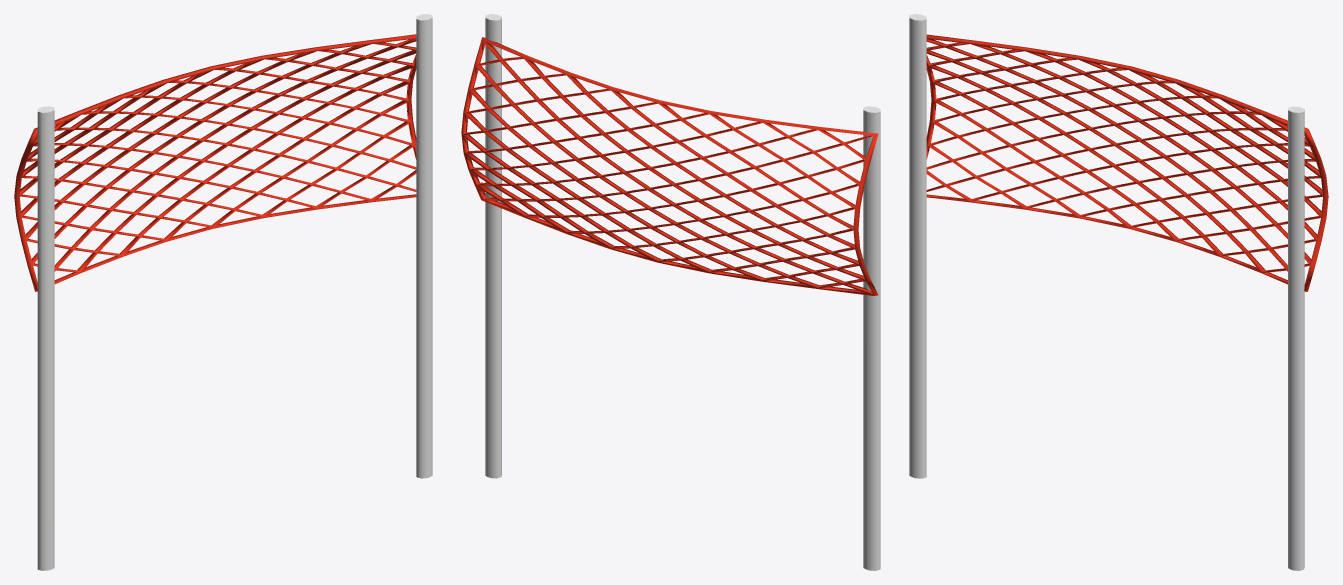
Rendered from File_tam.fbx.
The picture shows the model from 3 angles, left to right: view 1: azimuth 30°, elevation 25°; view 2: azimuth 150°, elevation 25°; view 3: azimuth 330°, elevation 25°; orthographic projection.
Parts seen in each view (by area): view 1: file, direk; view 2: file, direk; view 3: file, direk.
Boxes of the visible parts, x1,y1,x2,y2 form: file: [14, 34, 416, 291]; direk: [37, 14, 432, 570]; file: [461, 37, 878, 295]; direk: [485, 14, 880, 570]; file: [926, 34, 1328, 291]; direk: [909, 14, 1304, 570].
Size of the model in its own units: 1690 by 1863 by 285.
1 material, 1 textured.
